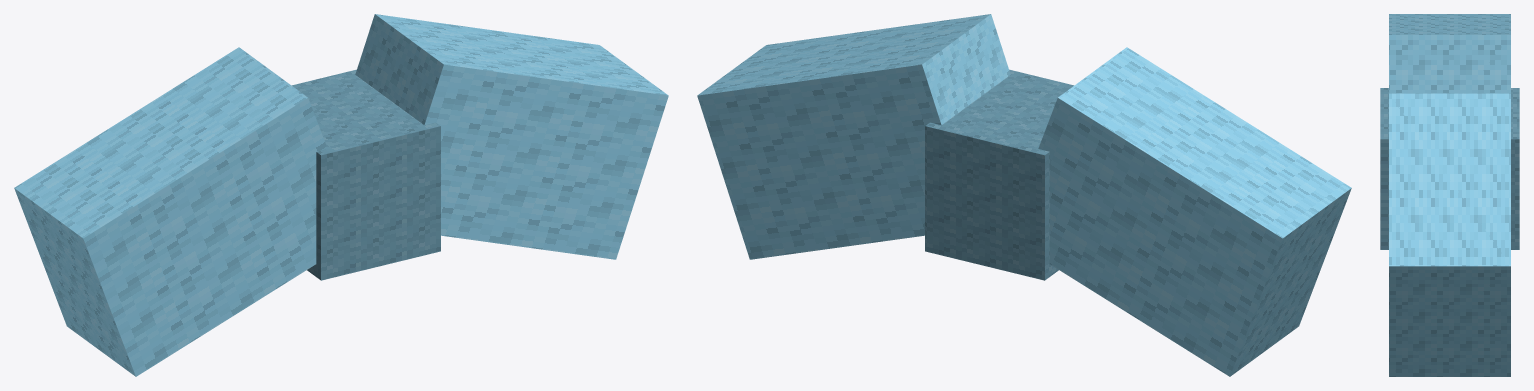
File: lazo.glb
3 renders of one model, left to right at view 1: azimuth 30°, elevation 25°; view 2: azimuth 150°, elevation 25°; view 3: azimuth 270°, elevation 25°, orthographic. The views are drawn at different scales.
Visible parts, largest first — view 1: _MeshInstance3D_86, _MeshInstance3D_87, _MeshInstance3D_88; view 2: _MeshInstance3D_86, _MeshInstance3D_87, _MeshInstance3D_88; view 3: _MeshInstance3D_87, _MeshInstance3D_86, _MeshInstance3D_88.
Part boxes in pixels (x1,y1,x2,y2): _MeshInstance3D_86: (14, 47, 327, 376); _MeshInstance3D_87: (355, 14, 668, 259); _MeshInstance3D_88: (292, 69, 440, 280); _MeshInstance3D_86: (1038, 47, 1351, 376); _MeshInstance3D_87: (697, 14, 1010, 259); _MeshInstance3D_88: (925, 69, 1073, 280); _MeshInstance3D_87: (1389, 93, 1510, 376); _MeshInstance3D_86: (1389, 14, 1510, 92); _MeshInstance3D_88: (1380, 88, 1519, 249).
Size of the model in its own units: 0.1541 by 0.0596 by 0.036.
2 materials, 2 textured.
